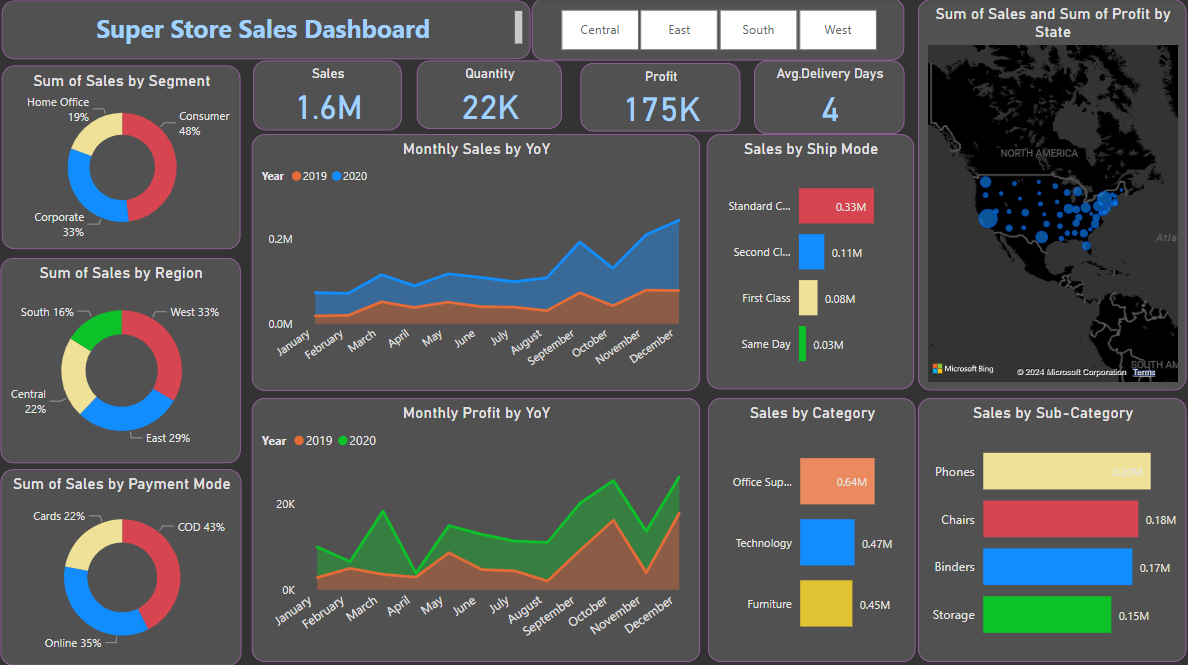

The dashboard page shown, as its layout file describes it:
{"tool":"powerbi","page":{"name":"DASHBOARD","canvas":[1280,720],"ordinal":2},"visuals":[{"type":"clusteredBarChart","title":"Sales by Category","fields":{"Category":["SuperStore_Sales_Dataset.Category"],"Y":["Sum(SuperStore_Sales_Dataset.Sales)"]},"box":[763.9,430.3,223.2,283.8],"z":0},{"type":"clusteredBarChart","title":"Sales by Sub-Category","fields":{"Category":["SuperStore_Sales_Dataset.Sub-Category"],"Y":["Sum(SuperStore_Sales_Dataset.Sales)"]},"box":[989.8,430.3,289.1,283.8],"z":1000},{"type":"clusteredBarChart","title":"Sales by Ship Mode","fields":{"Category":["SuperStore_Sales_Dataset.Ship Mode"],"Y":["Sum(SuperStore_Sales_Dataset.Sales)"]},"box":[762.5,146.6,223.2,274.3],"z":2000},{"type":"stackedAreaChart","title":"Monthly Sales by YoY","fields":{"Y":["Sum(SuperStore_Sales_Dataset.Sales)"],"Category":["SuperStore_Sales_Dataset.Order Date.Variation.Date Hierarchy.Month","SuperStore_Sales_Dataset.Order Date.Variation.Date Hierarchy.Day"],"Series":["SuperStore_Sales_Dataset.Order Date.Variation.Date Hierarchy.Year"]},"box":[273,146.6,482.8,275.7],"z":3000},{"type":"stackedAreaChart","title":"Monthly Profit by YoY","fields":{"Category":["SuperStore_Sales_Dataset.Order Date.Variation.Date Hierarchy.Month","SuperStore_Sales_Dataset.Order Date.Variation.Date Hierarchy.Day"],"Series":["SuperStore_Sales_Dataset.Order Date.Variation.Date Hierarchy.Year"],"Y":["Sum(SuperStore_Sales_Dataset.Profit)"]},"box":[273,430.3,482.8,283.8],"z":4000},{"type":"map","fields":{"Category":["SuperStore_Sales_Dataset.State"],"Size":["Sum(SuperStore_Sales_Dataset.Sales)"]},"box":[989.8,1.3,289.1,420.9],"z":5000},{"type":"donutChart","fields":{"Category":["SuperStore_Sales_Dataset.Segment"],"Y":["Sum(SuperStore_Sales_Dataset.Sales)"]},"box":[4,72.6,256.9,197.7],"z":6000},{"type":"donutChart","fields":{"Category":["SuperStore_Sales_Dataset.Region"],"Y":["Sum(SuperStore_Sales_Dataset.Sales)"]},"box":[2.7,279.7,258.2,220.6],"z":7000},{"type":"donutChart","fields":{"Category":["SuperStore_Sales_Dataset.Payment Mode"],"Y":["Sum(SuperStore_Sales_Dataset.Sales)"]},"box":[2.7,507,259.6,211.1],"z":8000},{"type":"slicer","fields":{"Values":["SuperStore_Sales_Dataset.Region"]},"box":[574.2,0,400.8,67.2],"z":9000},{"type":"textbox","box":[4,2.7,568.9,63.2],"z":10000},{"type":"card","title":"Sales","fields":{"Values":["Sum(SuperStore_Sales_Dataset.Sales)"]},"box":[274.3,67.2,160,75.3],"z":11000},{"type":"card","title":"Quantity","fields":{"Values":["Sum(SuperStore_Sales_Dataset.Quantity)"]},"box":[450.5,67.2,156,74],"z":12000},{"type":"card","title":"Profit","fields":{"Values":["Sum(SuperStore_Sales_Dataset.Profit)"]},"box":[626.7,69.9,172.1,74],"z":13000},{"type":"card","title":"Avg.Delivery Days","fields":{"Values":["Avg(SuperStore_Sales_Dataset.Avg.Delivery)"]},"box":[813.6,67.2,161.4,79.3],"z":14000}]}

Visuals, with their boxes in screenshot pixels (x1, y1, x2, y2), scaled from the page's 1280x720 canvas onto the 1188x665 screenshot:
"Sales by Category" clusteredBarChart: (left=709, top=397, right=916, bottom=660)
"Sales by Sub-Category" clusteredBarChart: (left=919, top=397, right=1187, bottom=660)
"Sales by Ship Mode" clusteredBarChart: (left=708, top=135, right=915, bottom=389)
"Monthly Sales by YoY" stackedAreaChart: (left=253, top=135, right=701, bottom=390)
"Monthly Profit by YoY" stackedAreaChart: (left=253, top=397, right=701, bottom=660)
map - SuperStore_Sales_Dataset.State x Sum(SuperStore_Sales_Dataset.Sales): (left=919, top=1, right=1187, bottom=390)
donutChart - SuperStore_Sales_Dataset.Segment x Sum(SuperStore_Sales_Dataset.Sales): (left=4, top=67, right=242, bottom=250)
donutChart - SuperStore_Sales_Dataset.Region x Sum(SuperStore_Sales_Dataset.Sales): (left=3, top=258, right=242, bottom=462)
donutChart - SuperStore_Sales_Dataset.Payment Mode x Sum(SuperStore_Sales_Dataset.Sales): (left=3, top=468, right=243, bottom=663)
slicer - SuperStore_Sales_Dataset.Region: (left=533, top=0, right=905, bottom=62)
textbox: (left=4, top=2, right=532, bottom=61)
"Sales" card: (left=255, top=62, right=403, bottom=132)
"Quantity" card: (left=418, top=62, right=563, bottom=130)
"Profit" card: (left=582, top=65, right=741, bottom=133)
"Avg.Delivery Days" card: (left=755, top=62, right=905, bottom=135)
